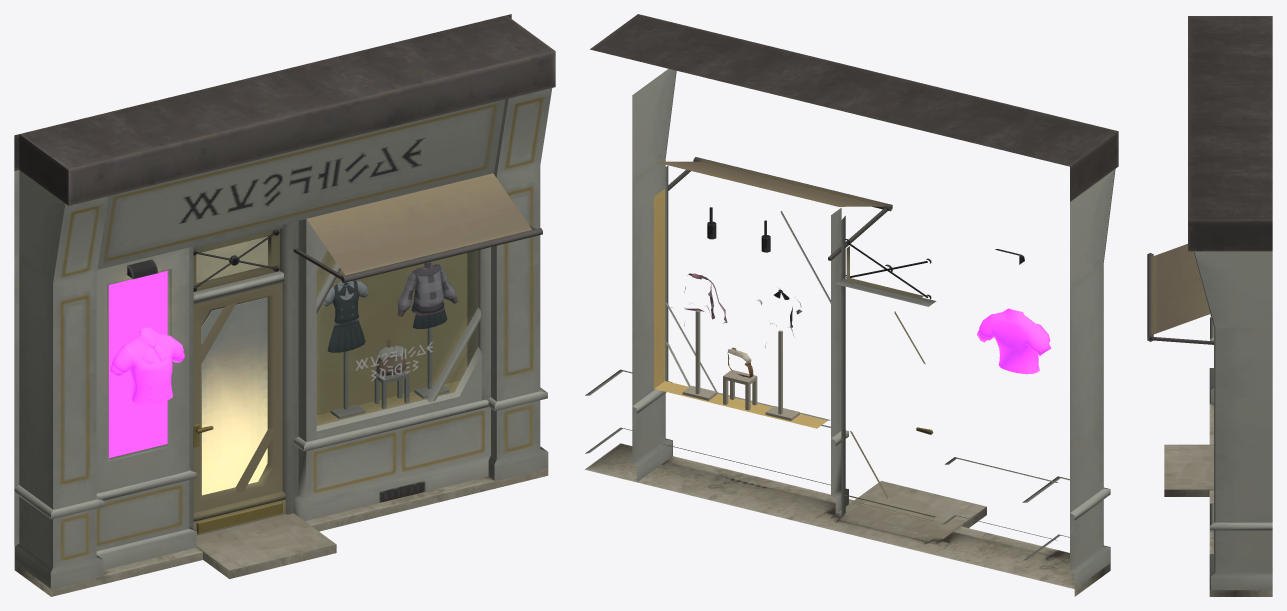
Rendered from t1_b_boutique1_c.glb.
3 renders of one model, left to right at view 1: azimuth 30°, elevation 25°; view 2: azimuth 150°, elevation 25°; view 3: azimuth 270°, elevation 25°, orthographic. The views are drawn at different scales.
Visible parts, largest first — view 1: nomerge_t1_b_boutique1_c_mesh; view 2: nomerge_t1_b_boutique1_c_mesh; view 3: nomerge_t1_b_boutique1_c_mesh.
Part boxes in pixels (x1,y1,x2,y2): nomerge_t1_b_boutique1_c_mesh: (14,14,555,596); nomerge_t1_b_boutique1_c_mesh: (585,14,1118,596); nomerge_t1_b_boutique1_c_mesh: (1147,16,1272,596).
Size of the model in its own units: 5.5 by 4.6 by 1.39.
4 materials, 3 textured.
